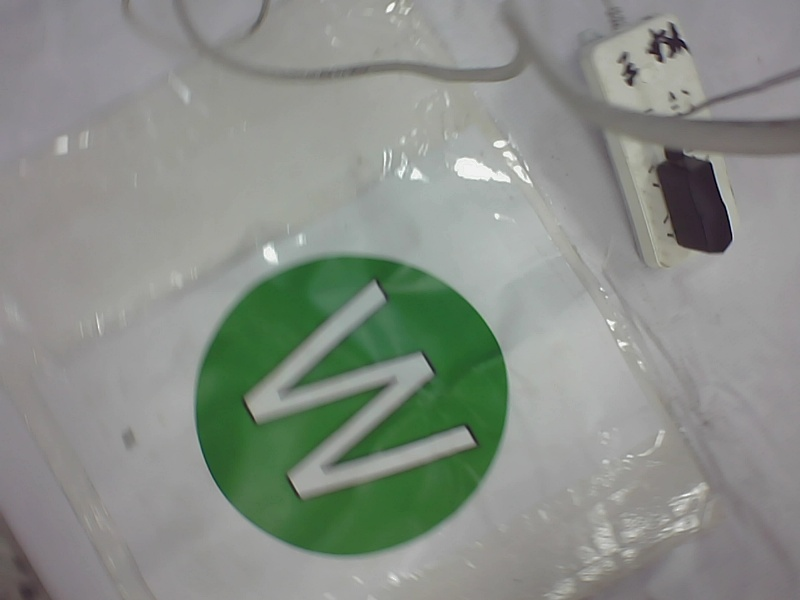areaB: (182, 252, 527, 566)
